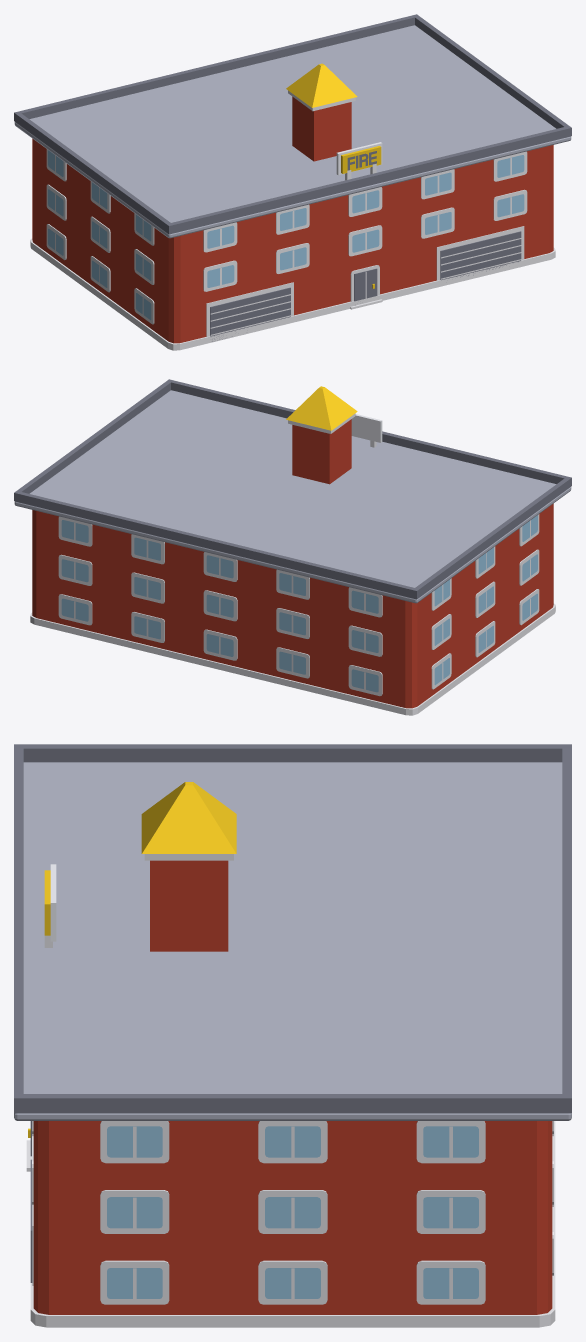
Rendered from fire-station-3x2-3f.glb.
The picture shows the model from 3 angles, top to bottom: view 1: azimuth 30°, elevation 25°; view 2: azimuth 150°, elevation 25°; view 3: azimuth 270°, elevation 25°; orthographic projection. The views are drawn at different scales.
Visible parts, largest first — view 1: fire-station-3x2-3f; view 2: fire-station-3x2-3f; view 3: fire-station-3x2-3f.
Boxes of the visible parts, left/top/right/bottom form: fire-station-3x2-3f: left=14, top=14, right=571, bottom=350; fire-station-3x2-3f: left=14, top=379, right=571, bottom=715; fire-station-3x2-3f: left=14, top=744, right=571, bottom=1327.
Size of the model in its own units: 3 by 1.48 by 2.
Materials: 1 (1 with a texture image).
